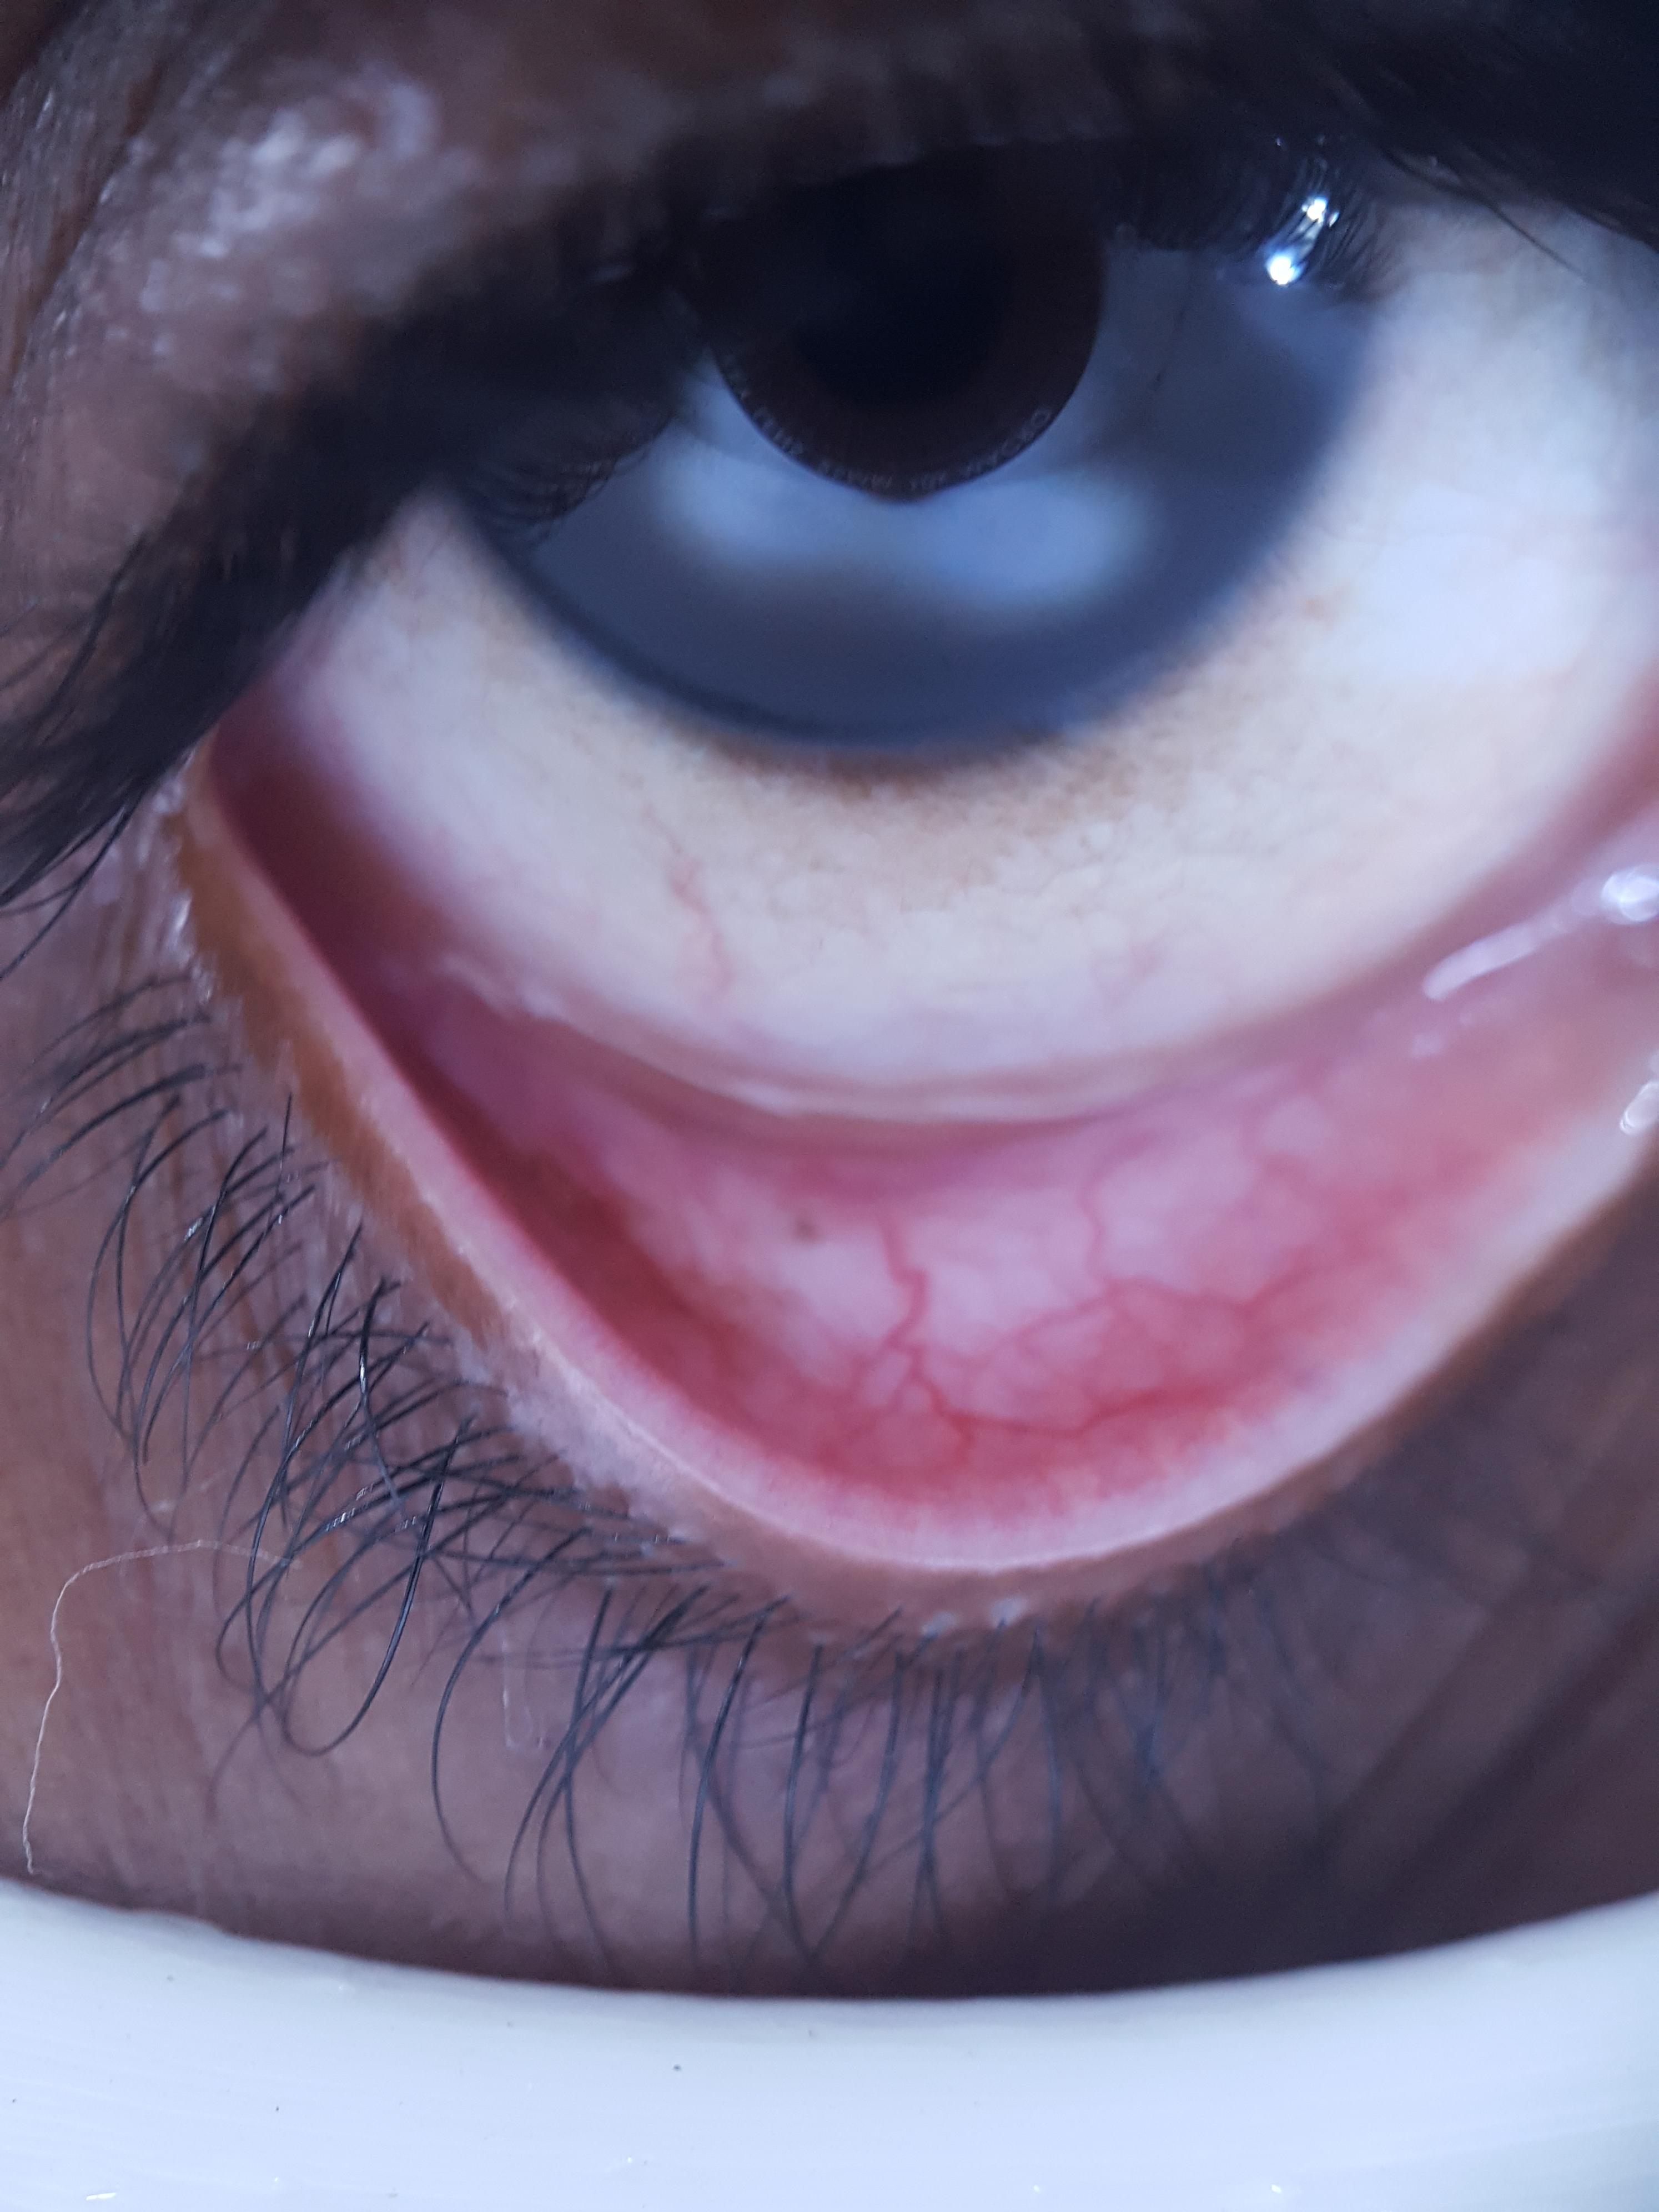forniceal: (464, 733, 1659, 1416)
forniceal_palpebral: (235, 711, 1659, 1515)
palpebral: (263, 782, 1659, 1510)
